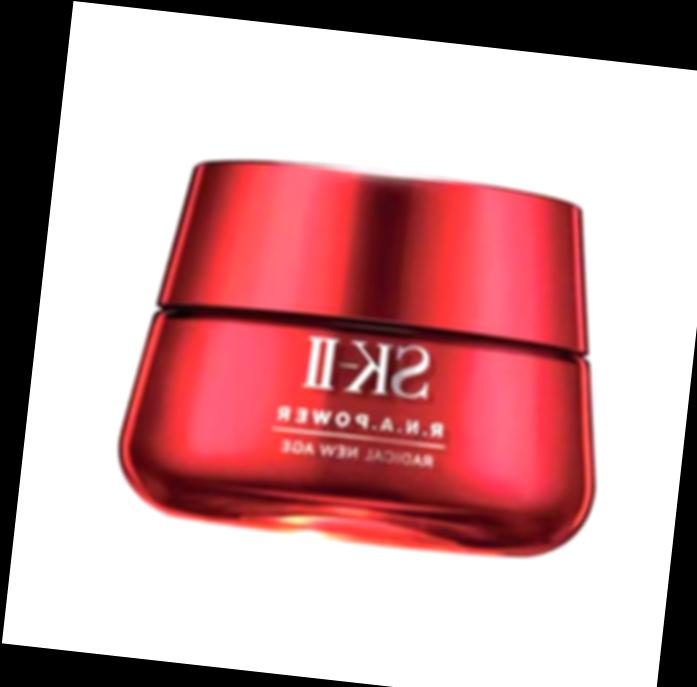cosmetic: (125, 149, 613, 554)
